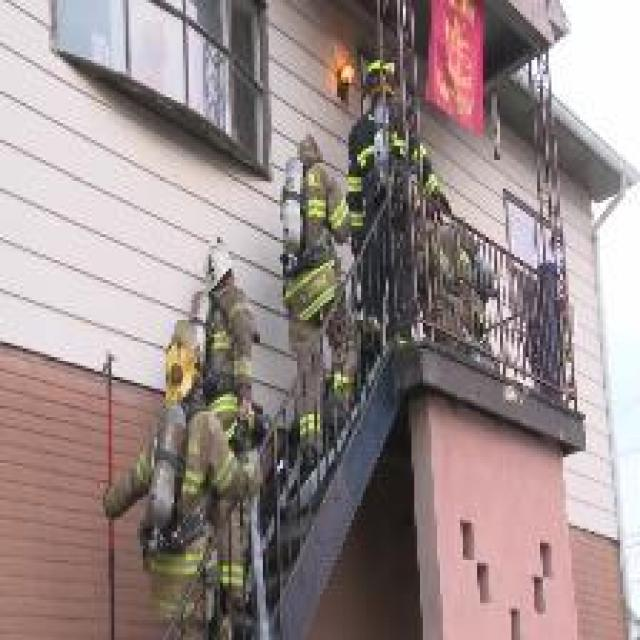other: (424, 0, 498, 144), (318, 39, 363, 108)
